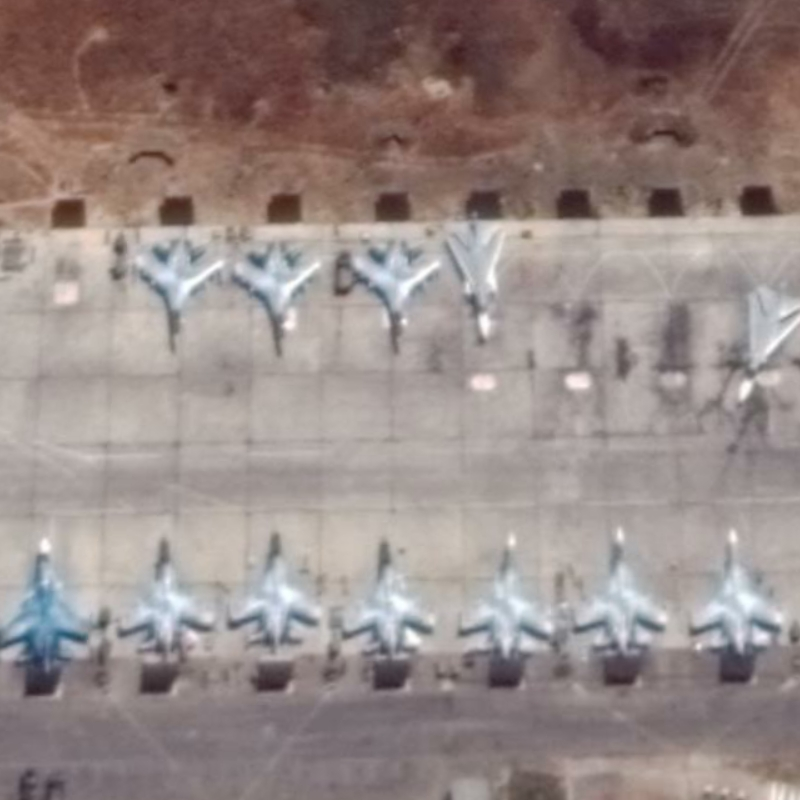A1: (569, 521, 670, 659), (456, 528, 557, 663), (687, 524, 786, 659), (116, 533, 220, 661), (337, 536, 438, 662), (223, 528, 324, 654), (346, 235, 445, 359), (130, 234, 228, 355), (230, 237, 326, 360)
A19: (1, 533, 98, 675)
A20: (443, 217, 508, 346), (734, 282, 800, 404)
